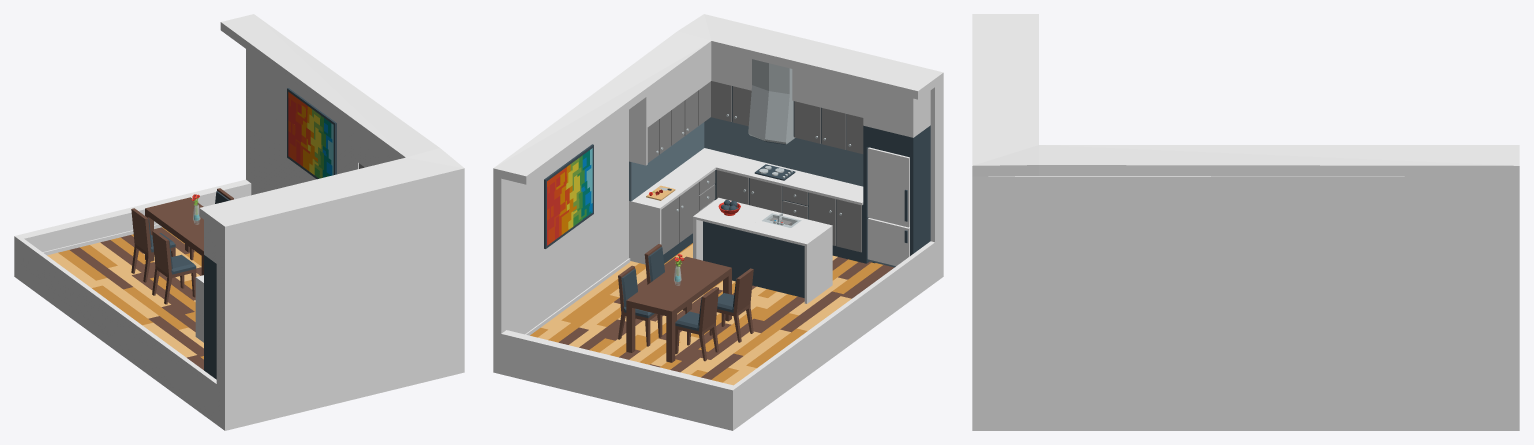
File: Cozy Kitchen.glb
3 views of the same model, side by side, from view 1: azimuth 30°, elevation 25°; view 2: azimuth 150°, elevation 25°; view 3: azimuth 270°, elevation 25° (orthographic). The views are drawn at different scales.
Visible parts, largest first — view 1: Node; view 2: Node; view 3: Node.
Boxes of the visible parts, box(x1,y1,x2,y2) form: Node: box(14, 14, 464, 430); Node: box(493, 14, 943, 430); Node: box(972, 14, 1519, 430).
Bounding box in the file's own units: 2.11 × 1.72 × 3.2.
